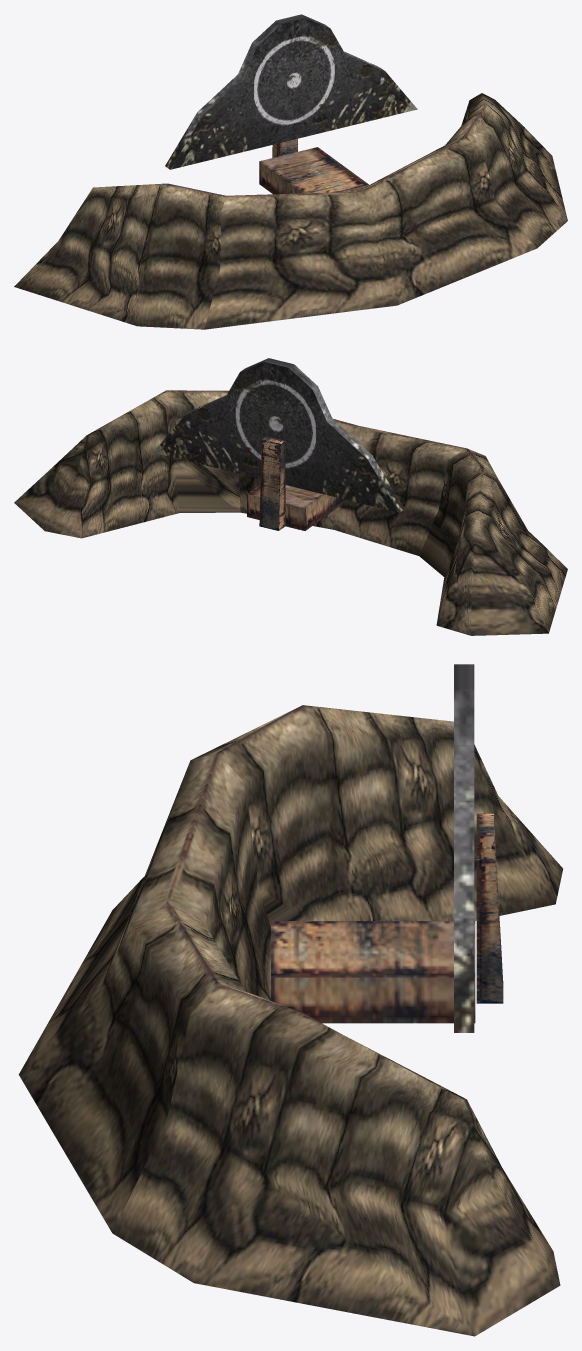
File: Target02.glb
The picture shows the model from 3 angles, top to bottom: view 1: azimuth 30°, elevation 25°; view 2: azimuth 150°, elevation 25°; view 3: azimuth 270°, elevation 25°; orthographic projection. The views are drawn at different scales.
Parts seen in each view (by area): view 1: _Target02; view 2: _Target02; view 3: _Target02.
Boxes of the visible parts, left/top/right/bottom form: _Target02: left=14, top=14, right=567, bottom=329; _Target02: left=14, top=358, right=567, bottom=635; _Target02: left=18, top=664, right=562, bottom=1336.
Bounding box in the file's own units: 3.47 × 1.25 × 1.53.
Materials: 1 (1 with a texture image).
